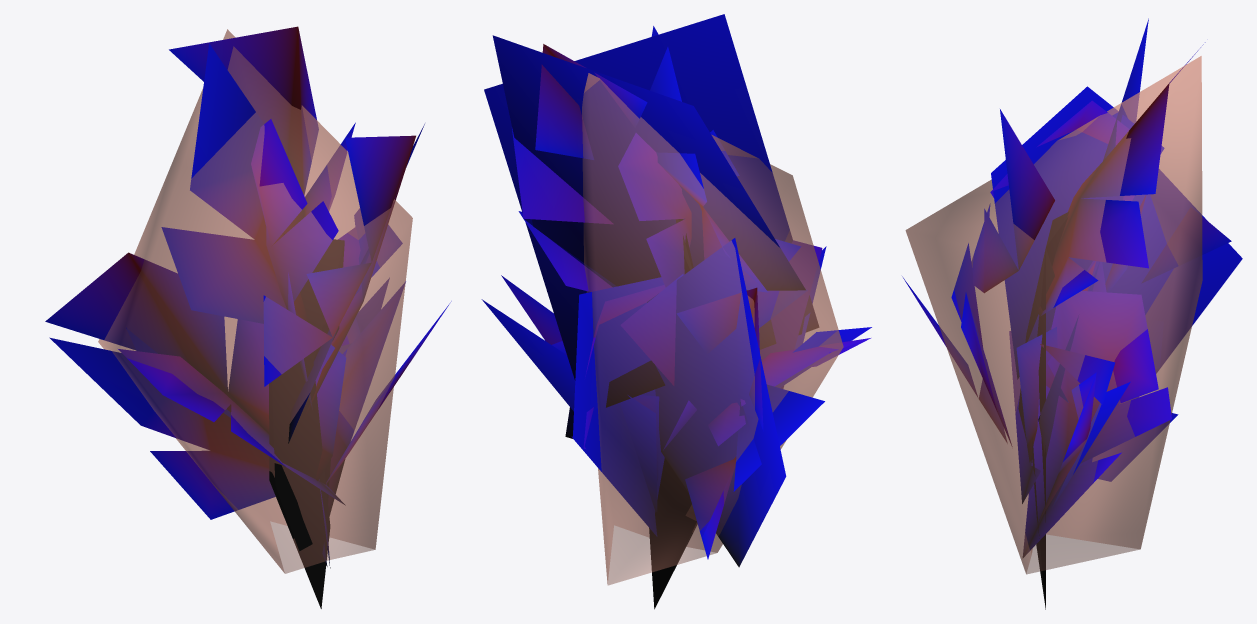
Rendered from tree_beech_bush_b.dae.
3 renders of one model, left to right at view 1: azimuth 30°, elevation 25°; view 2: azimuth 150°, elevation 25°; view 3: azimuth 270°, elevation 25°, orthographic. The views are drawn at different scales.
Visible parts, largest first — view 1: beech_bush_b_a120, Colmesh_bush_b-1, beech_bush_b_a50; view 2: beech_bush_b_a50, Colmesh_bush_b-1, beech_bush_b_a120; view 3: Colmesh_bush_b-1, beech_bush_b_a120, beech_bush_b_a50.
Part boxes in pixels (x1=…): beech_bush_b_a120: x1=45, y1=26, x2=451, y2=608; Colmesh_bush_b-1: x1=98, y1=29, x2=412, y2=573; beech_bush_b_a50: x1=126, y1=124, x2=424, y2=601; beech_bush_b_a50: x1=481, y1=14, x2=871, y2=609; Colmesh_bush_b-1: x1=582, y1=73, x2=843, y2=585; beech_bush_b_a120: x1=501, y1=26, x2=870, y2=597; Colmesh_bush_b-1: x1=905, y1=56, x2=1202, y2=574; beech_bush_b_a120: x1=902, y1=18, x2=1231, y2=607; beech_bush_b_a50: x1=991, y1=86, x2=1242, y2=609.
Size of the model in its own units: 2.11 by 1.79 by 3.25.
